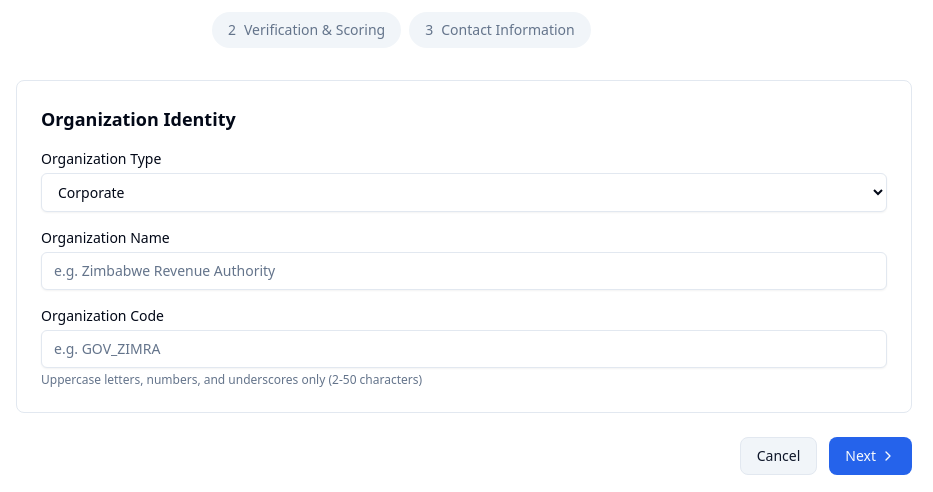
OrganizationWizard › auto-sets trust level when org_type changes in create mode
This screenshot has width=933, height=492.
// Change to government (trust level 90)
Select "Government" in the dropdown labelled "Organization Type": [464, 192] box top-left (41, 173), bottom-right (887, 212)
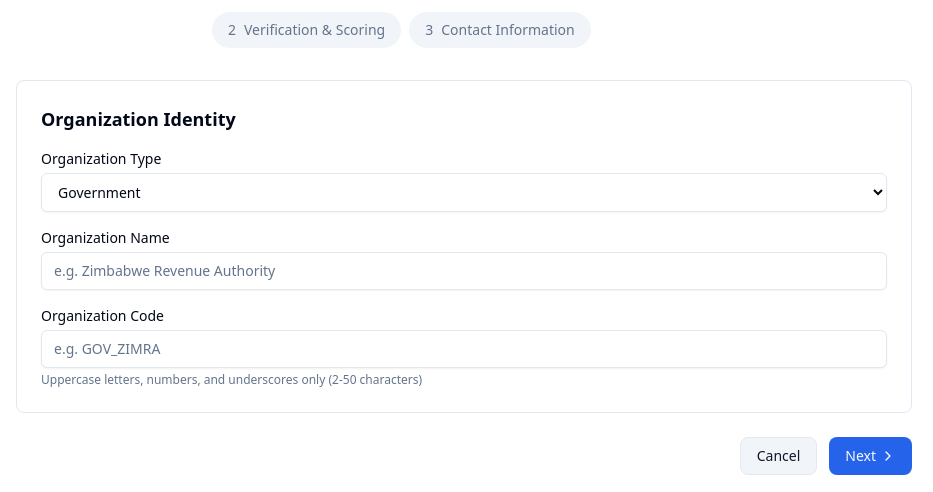
Select "Cooperative" in the dropdown labelled "Organization Type": [464, 192] box top-left (41, 173), bottom-right (887, 212)
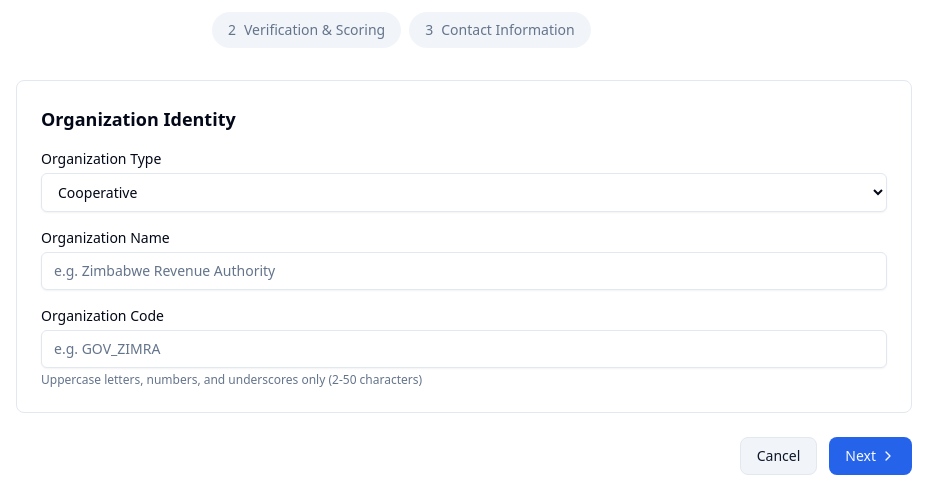
// Now fill and advance to step 2 to see the trust level
In the field labelled "Organization Name": [464, 271] box top-left (41, 252), bottom-right (887, 290), type "Test Coop"
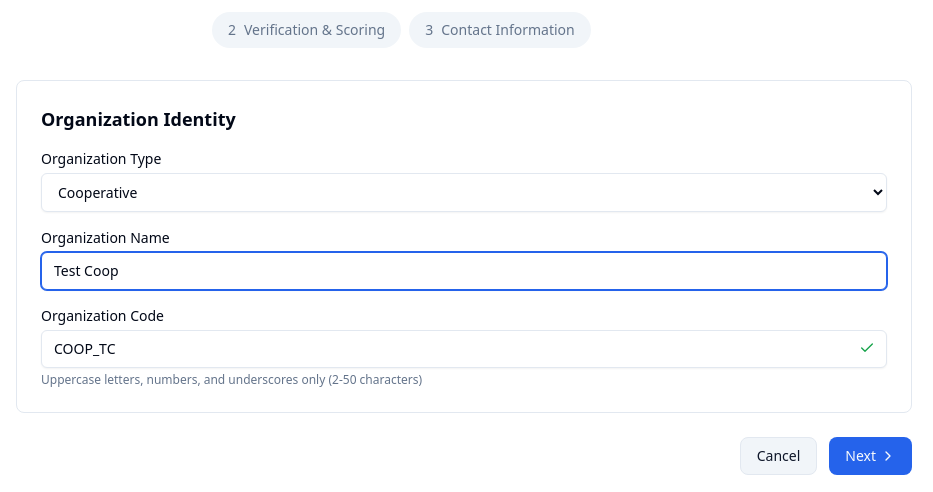
Replace the text in the field labelled "Organization Code" with "COOP_TEST": [464, 349] box top-left (41, 330), bottom-right (887, 368)
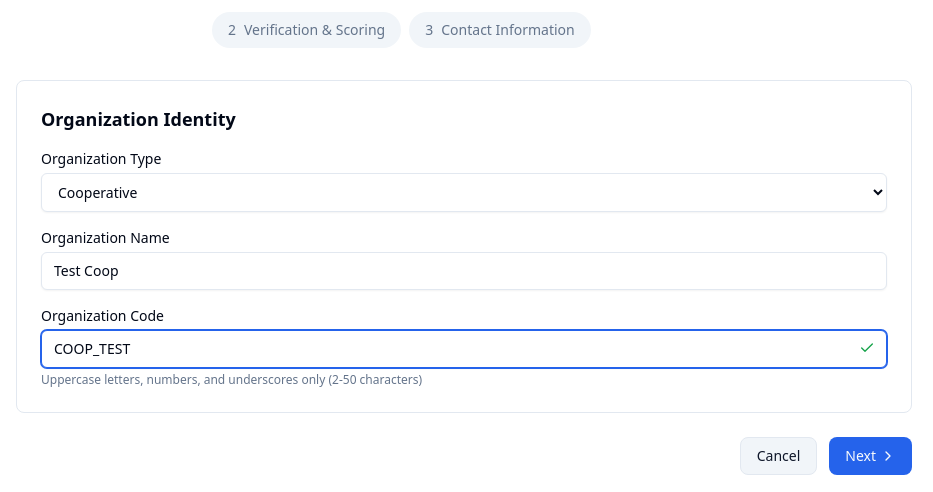
Click the button "Next": [871, 456] box top-left (829, 437), bottom-right (912, 475)
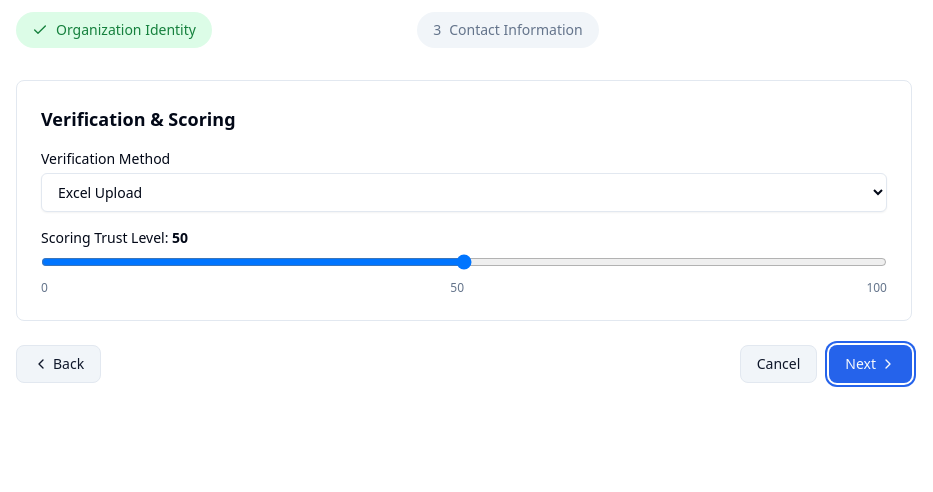
Check: the heading "Verification & Scoring" is shown, box top-left (41, 107), bottom-right (236, 131)
Check: the slider labelled "Scoring Trust Level: 50" holds "50", box top-left (41, 254), bottom-right (887, 270)
